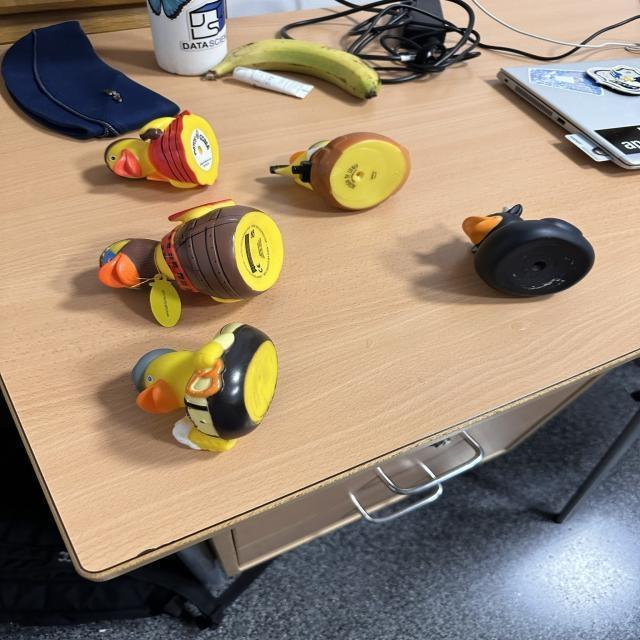rubber-duck: (97, 199, 282, 325), (131, 322, 276, 450), (461, 203, 592, 294), (269, 131, 408, 208), (103, 110, 217, 186)
